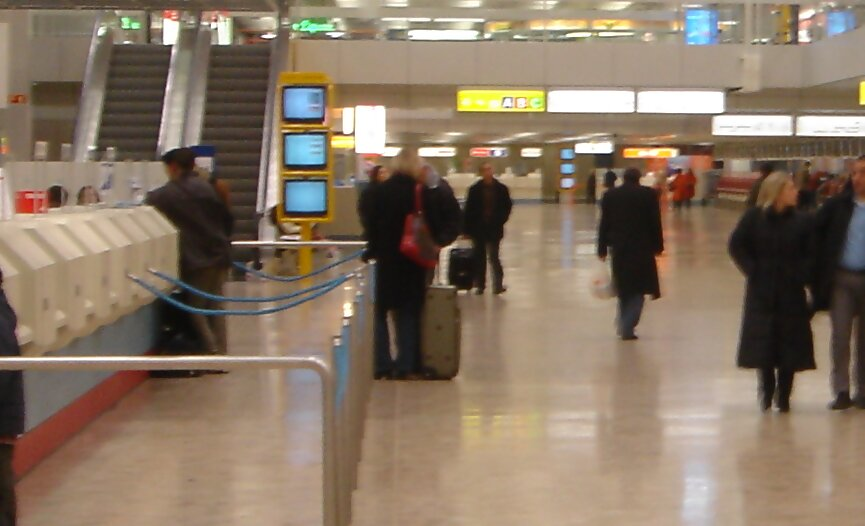person: (364, 145, 443, 380), (599, 163, 674, 342), (463, 161, 520, 307)
